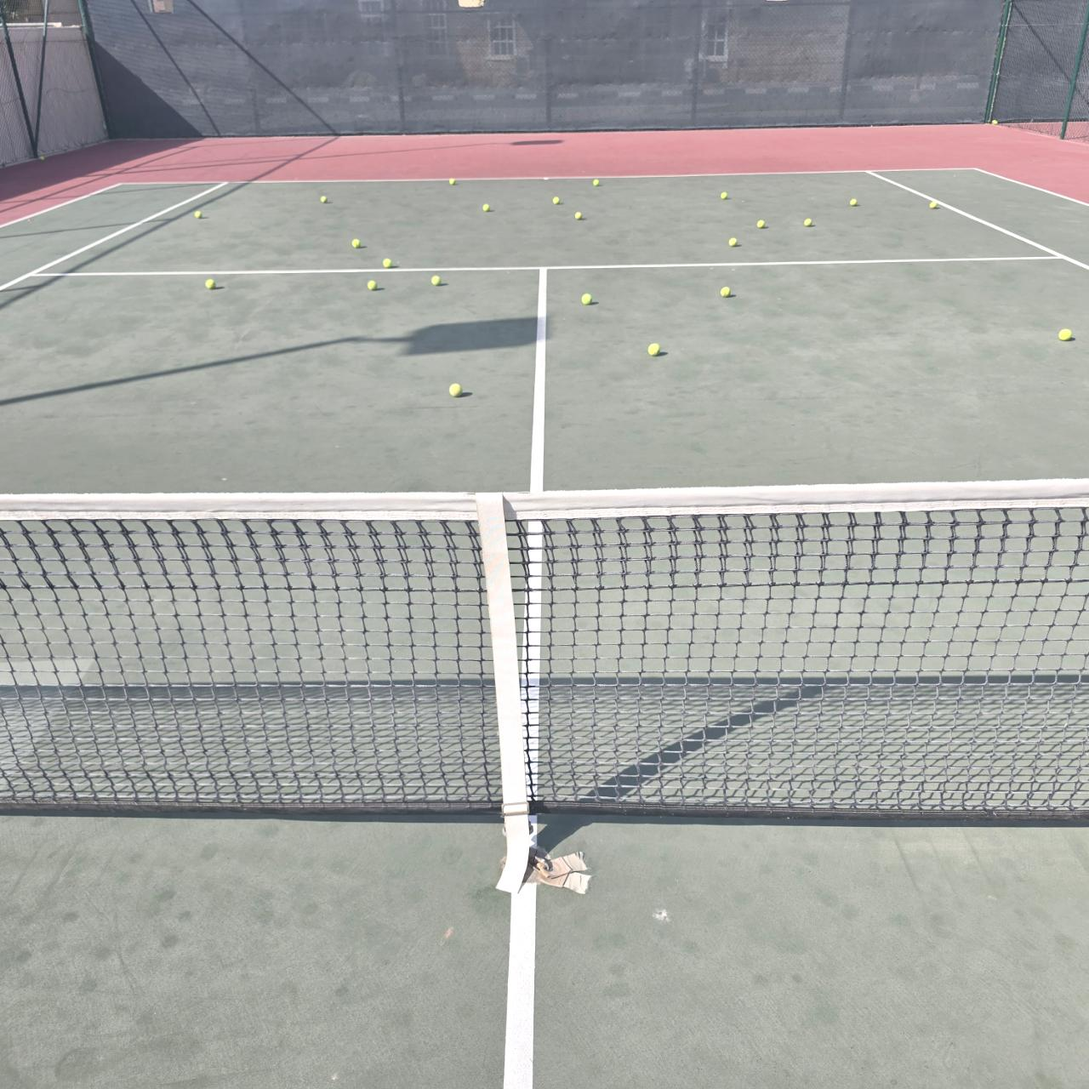tennis-ball: (648, 340, 663, 356), (449, 380, 463, 396), (1058, 327, 1073, 341), (581, 291, 594, 305), (205, 278, 217, 290), (720, 286, 731, 297), (367, 279, 378, 290), (431, 275, 442, 285), (728, 237, 738, 248), (382, 258, 393, 268), (351, 238, 362, 248), (756, 220, 765, 229), (849, 198, 858, 207), (574, 211, 583, 220), (803, 218, 813, 226), (552, 196, 560, 205), (320, 195, 328, 204), (194, 210, 203, 218), (928, 201, 937, 209), (720, 192, 728, 200), (482, 204, 490, 212), (448, 178, 456, 185), (593, 179, 600, 186), (38, 156, 45, 161), (992, 120, 998, 125)
